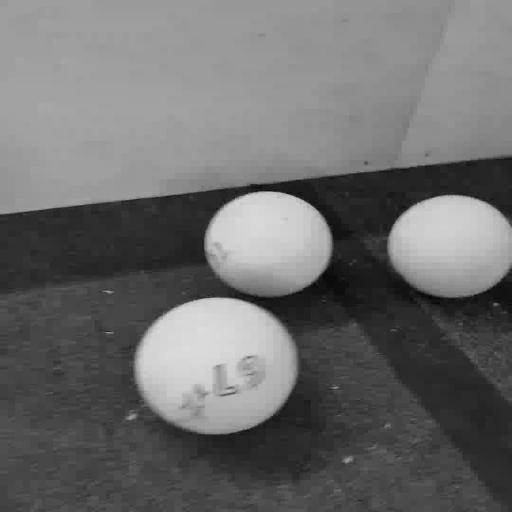fuel: (134, 298, 298, 435), (204, 192, 333, 297), (388, 195, 511, 298)
